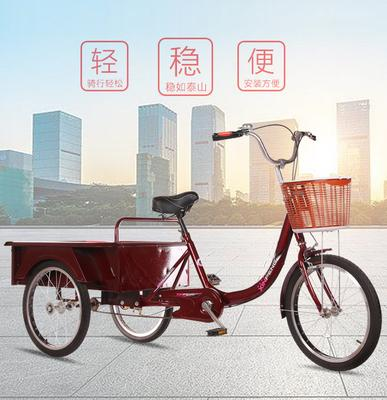empty: (6, 122, 387, 376)
